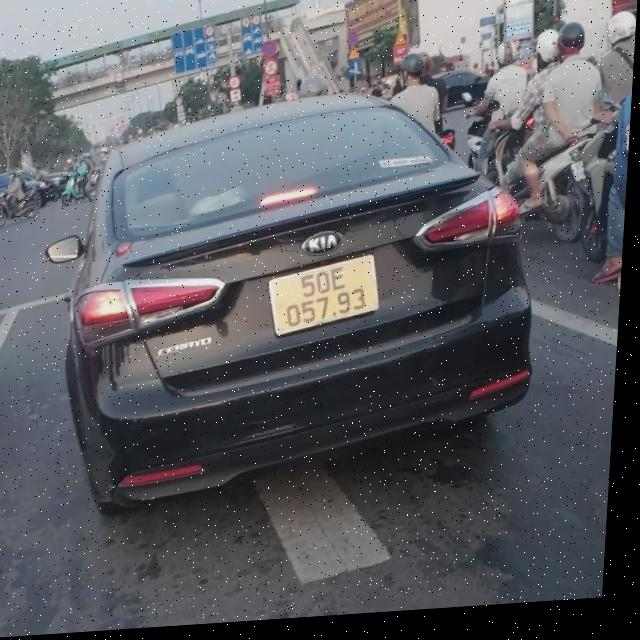car: (30, 73, 551, 528)
motorcycle: (482, 107, 599, 259)
plate: (254, 255, 389, 342)
